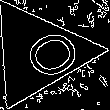O_SW: (2, 21, 76, 85)
